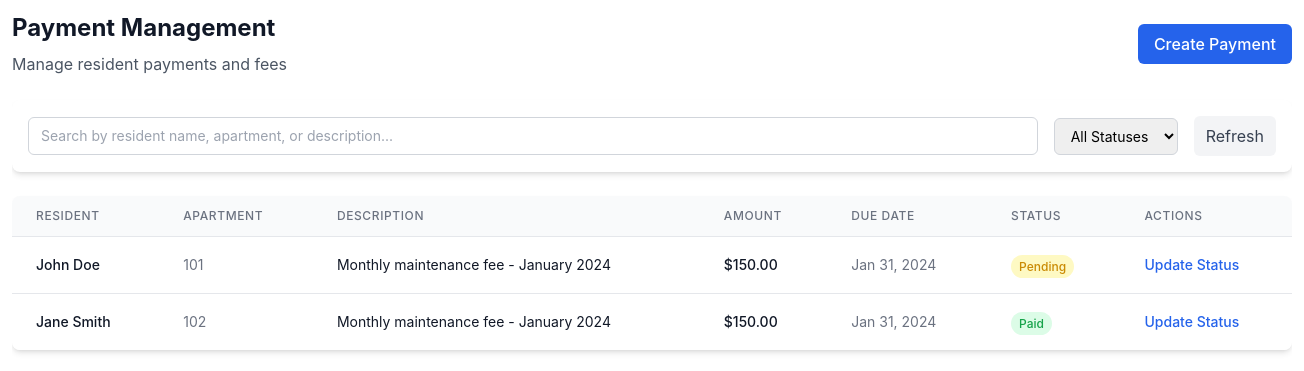
Test: AdminPaymentManagement › searches payments by resident name
Expected: the text "John Doe" is shown, [12,236,159,294]
// Search for John
Type "John" into the field with placeholder "Search by resident name, apartment, or description...".
click(533, 136); type("John")  # box [28,117,1038,155]
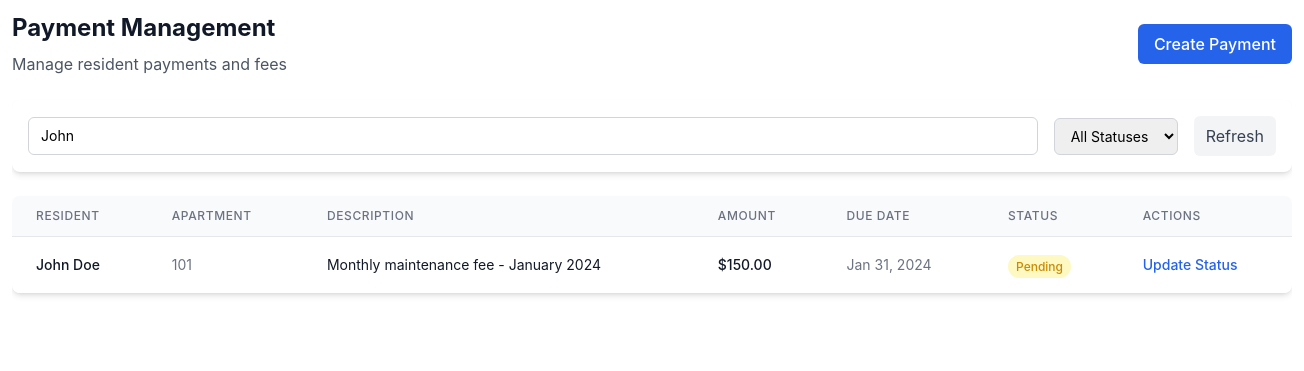
Expected: the text "John Doe" is shown, [12,236,148,293]
Now the text "Jane Smith" is gone
